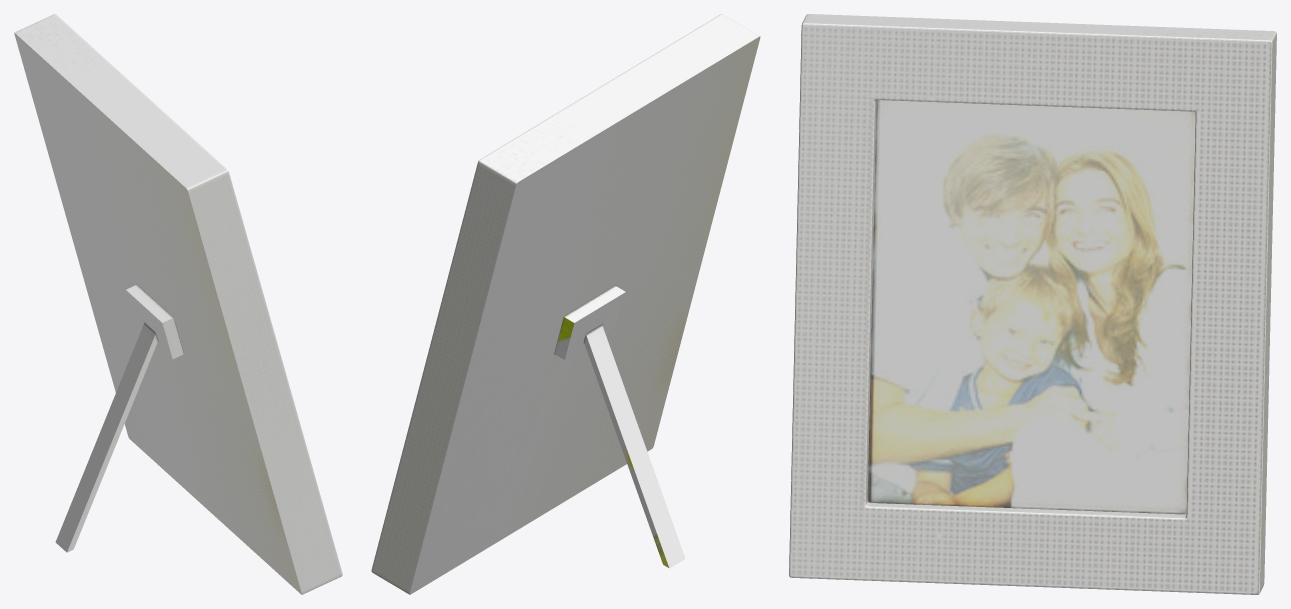
Rendered from portrait.glb.
The picture shows the model from 3 angles, left to right: view 1: azimuth 30°, elevation 25°; view 2: azimuth 150°, elevation 25°; view 3: azimuth 270°, elevation 25°; orthographic projection. The views are drawn at different scales.
Visible parts, largest first — view 1: Object_2; view 2: Object_2; view 3: Object_2.
Part boxes in pixels (x1,y1,x2,y2): Object_2: (14, 14, 342, 594); Object_2: (371, 14, 760, 594); Object_2: (789, 14, 1276, 594).
Size of the model in its own units: 14.85 by 30.69 by 26.83.
1 material, 1 textured.
